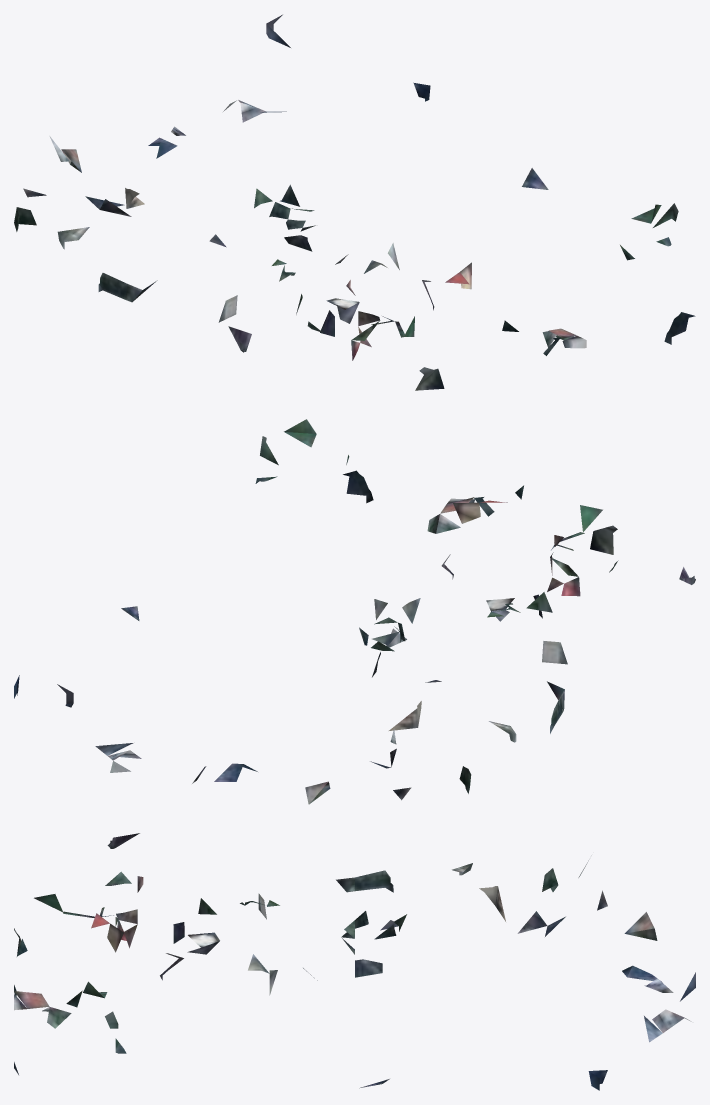
3 renders of one model, top to bottom at view 1: azimuth 30°, elevation 25°; view 2: azimuth 150°, elevation 25°; view 3: azimuth 270°, elevation 25°, orthographic. The views are drawn at different scales.
Parts seen in each view (by area): view 1: 3043627270436163441_1; view 2: 3043627270436163441_1; view 3: 3043627270436163441_1.
Part boxes in pixels (box(x1,y1,x2,y2)): 3043627270436163441_1: box(14, 14, 695, 390); 3043627270436163441_1: box(14, 419, 695, 804); 3043627270436163441_1: box(14, 833, 695, 1090).
Size of the model in its own units: 54.61 by 12.94 by 76.51.
1 material, 1 textured.
